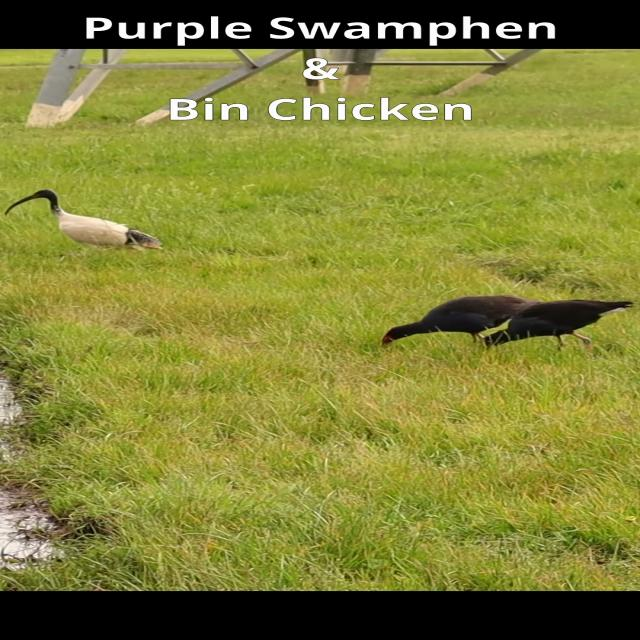Birds-Ibis: (4, 186, 168, 261)
Birds-Other: (480, 296, 637, 356), (376, 292, 534, 350)
